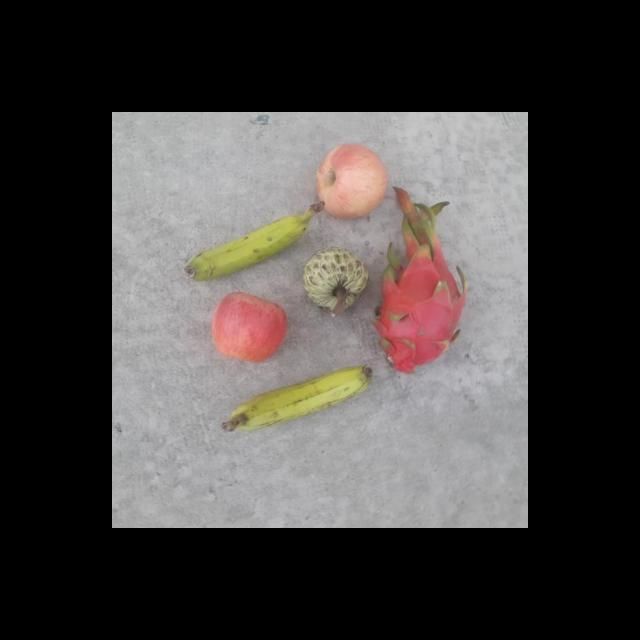Sakya fruit: (302, 246, 372, 315)
apple: (209, 290, 289, 364), (314, 140, 388, 218)
banana: (184, 200, 327, 282), (222, 365, 372, 432)
pitaya: (373, 238, 472, 374)
